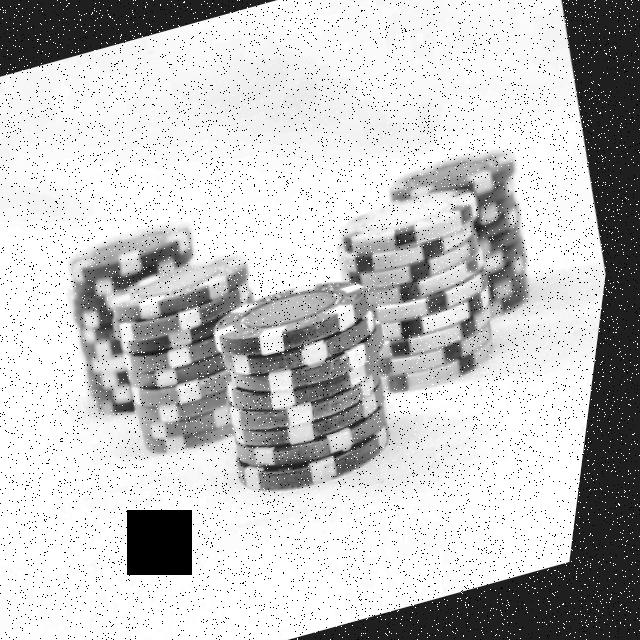Chip: (187, 262, 437, 524), (314, 164, 543, 414), (87, 238, 321, 478), (26, 208, 253, 439), (364, 119, 582, 355)
